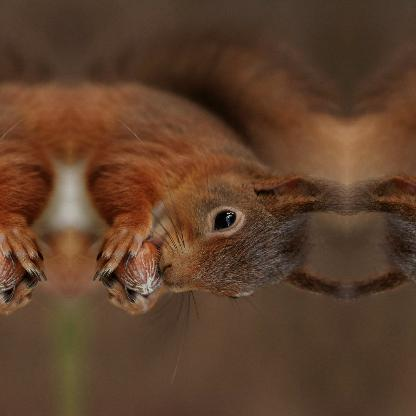Squirrel: (69, 39, 346, 394), (0, 38, 70, 394), (346, 38, 415, 394)
